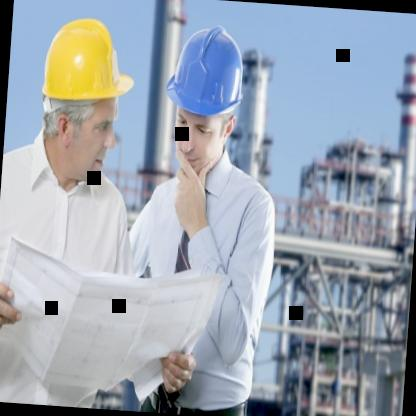helmet: (24, 0, 133, 201), (152, 10, 266, 202)
